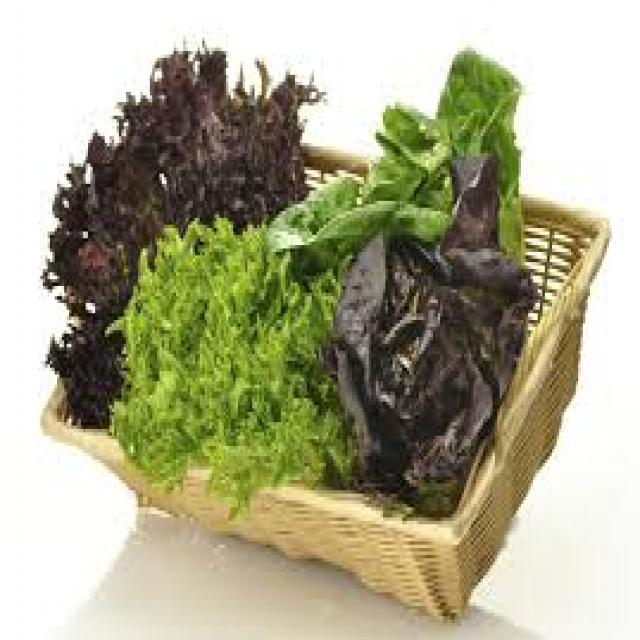organic waste: (38, 34, 324, 422), (100, 221, 352, 514), (326, 150, 540, 483), (259, 44, 519, 269), (373, 460, 457, 518)
